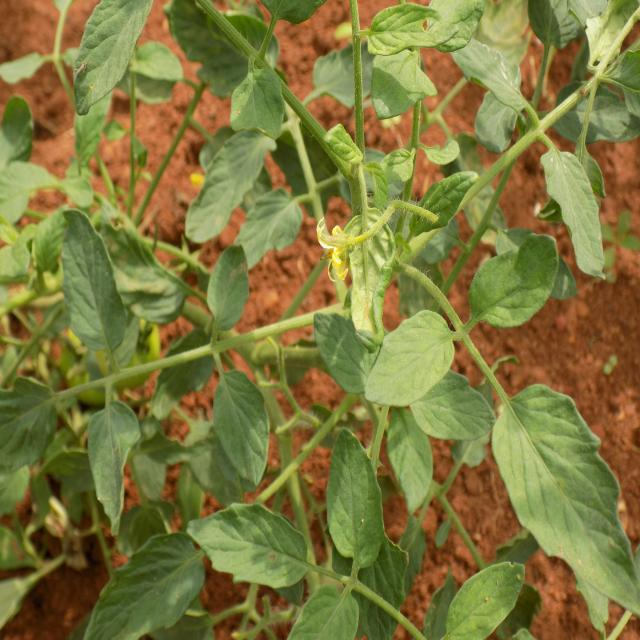tomato_healthy: (487, 378, 640, 609), (186, 500, 313, 594), (185, 120, 269, 246), (60, 212, 127, 366), (540, 141, 610, 283), (466, 229, 558, 327), (324, 431, 388, 568), (364, 307, 452, 405), (206, 363, 274, 487), (82, 398, 140, 526)
